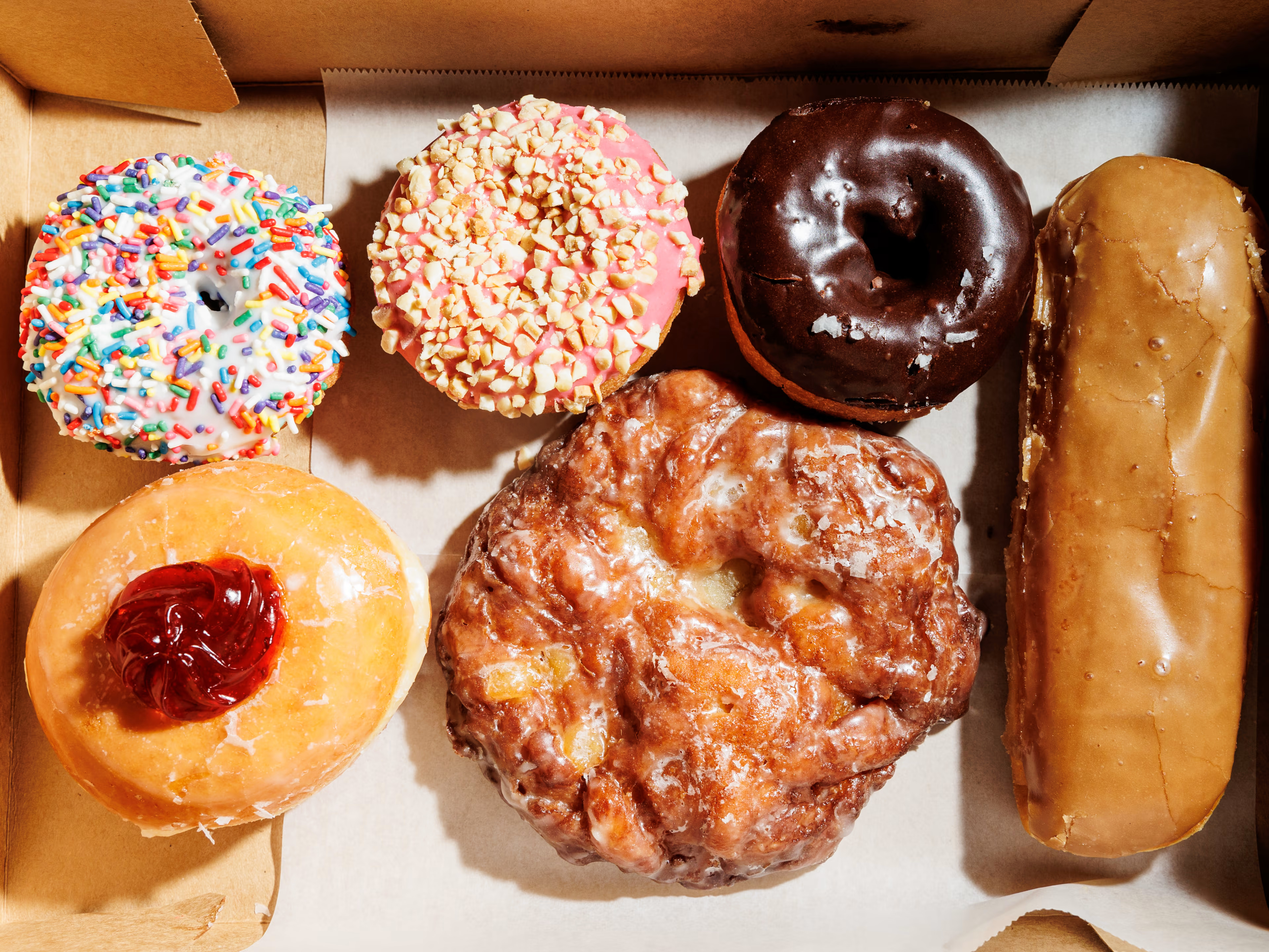Donut: (362, 61, 722, 439), (704, 52, 1045, 426), (10, 130, 365, 471)
